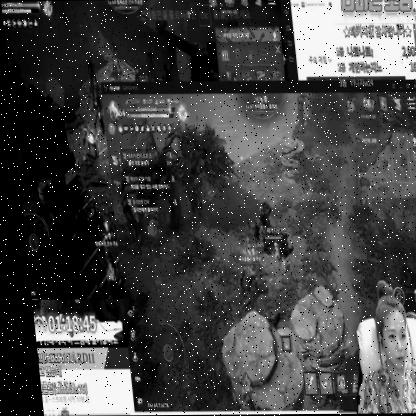streamer: (333, 279, 416, 414)
